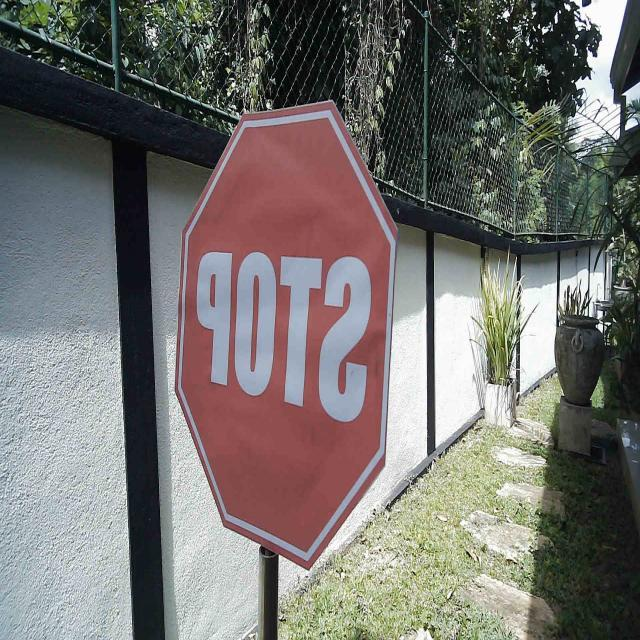stop: (174, 96, 400, 574)
